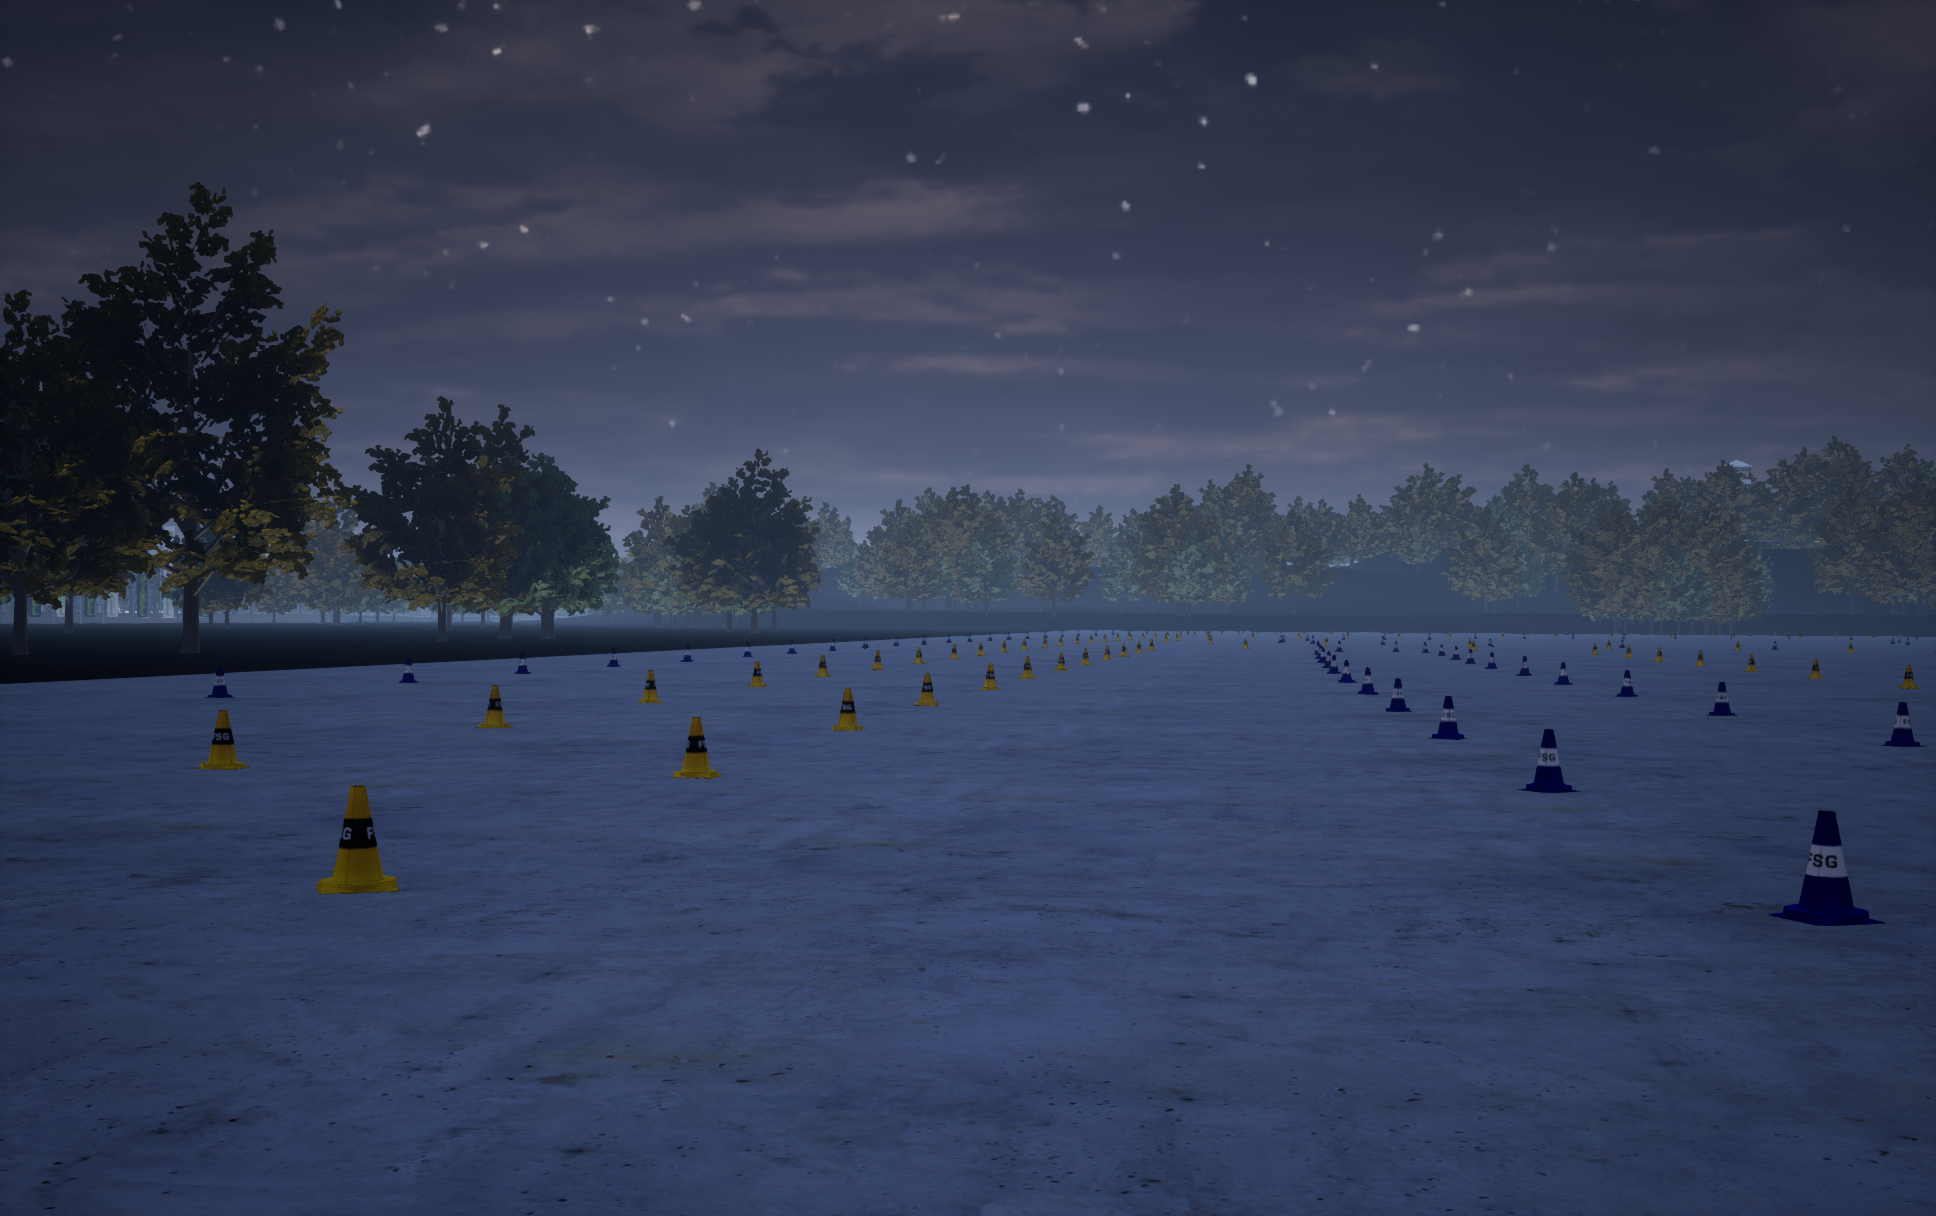blue: (317, 785, 399, 894), (193, 710, 249, 769), (670, 717, 723, 778), (473, 685, 514, 727), (831, 688, 867, 730), (913, 672, 939, 705), (637, 670, 663, 702), (981, 663, 1000, 689), (748, 661, 768, 686), (1900, 665, 1919, 688), (1017, 656, 1035, 678), (814, 656, 829, 677), (1807, 658, 1823, 678), (870, 650, 884, 670), (1053, 651, 1067, 670)
yellow: (1768, 810, 1884, 925), (1517, 728, 1580, 792), (1880, 702, 1926, 747), (1427, 696, 1465, 740), (1706, 682, 1737, 714), (205, 667, 234, 698), (1385, 678, 1412, 712), (1615, 670, 1638, 696), (1357, 667, 1378, 693), (1338, 660, 1357, 682), (399, 658, 417, 682), (1554, 663, 1572, 684), (1514, 656, 1531, 675), (514, 653, 530, 672), (1327, 656, 1341, 672), (607, 649, 621, 665)
